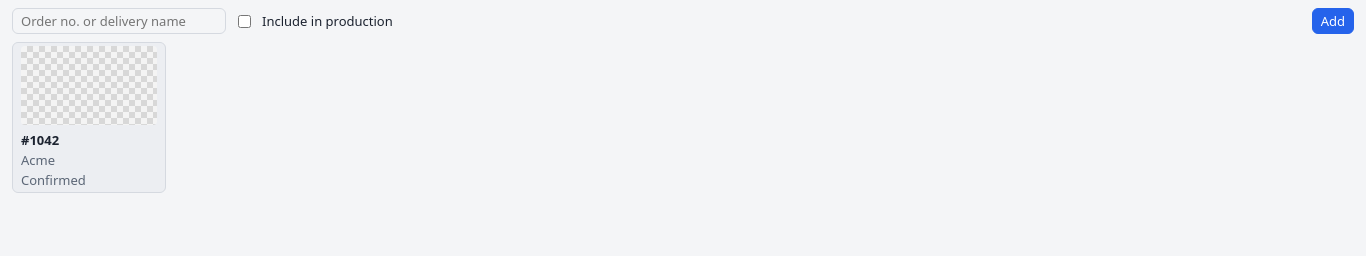
Scenario: GangSheetsTab › dragging an order card › the no-print-files notice is not hidden by an earlier error
Expected: the text "#1042" is shown, [21, 131, 59, 149]
Press the mouse on the button with class "order-card" at (89, 118), box [12, 42, 166, 193]
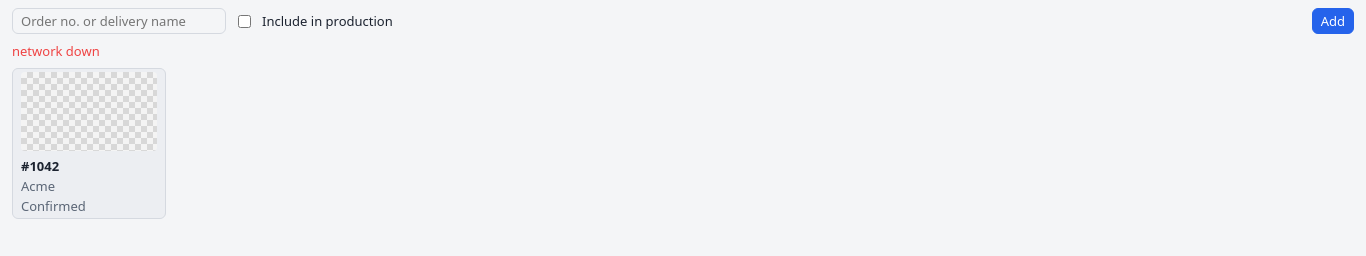
Expected: the text "#1042" is shown, [21, 157, 59, 175]
Result: the text "network down" is shown at [12, 42, 100, 60]
Press the mouse on the button with class "order-card" at (89, 144), box [12, 68, 166, 219]
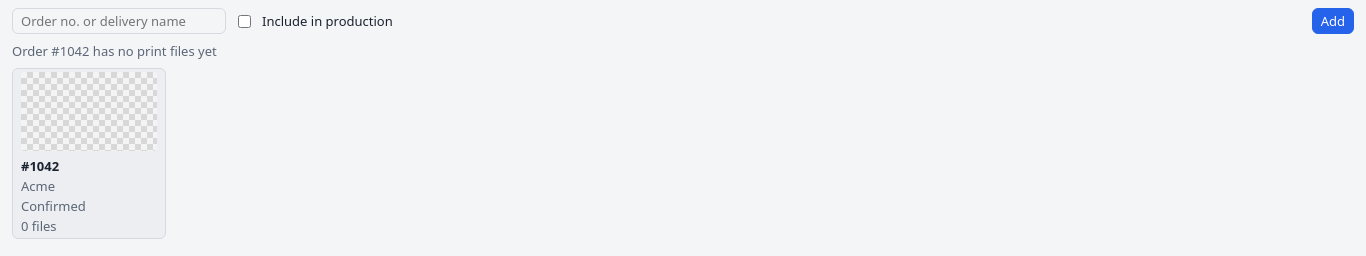
Result: the text "Order #1042 has no print files yet" is shown at [12, 42, 217, 60]
Result: the text "network down" is gone
